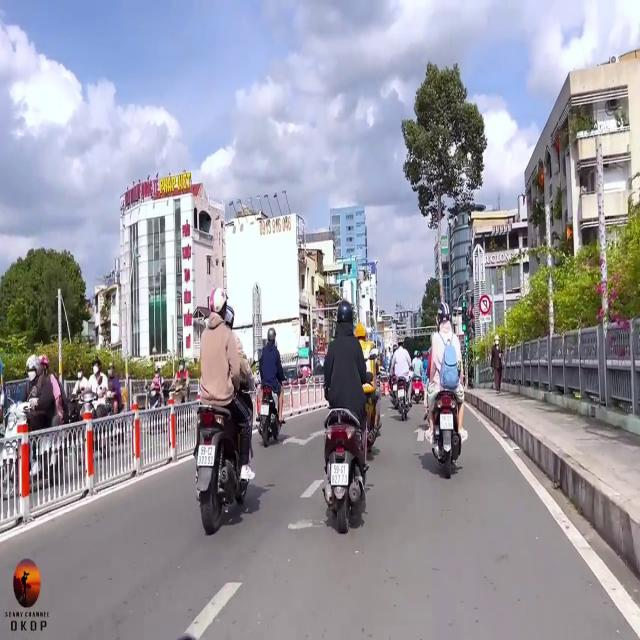bien_trang: (330, 463, 348, 487), (195, 444, 214, 466), (440, 411, 455, 435)
